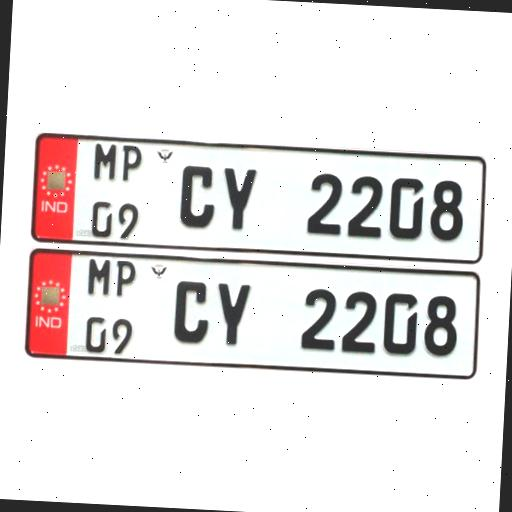number plate: (30, 124, 489, 270), (22, 250, 488, 384)
